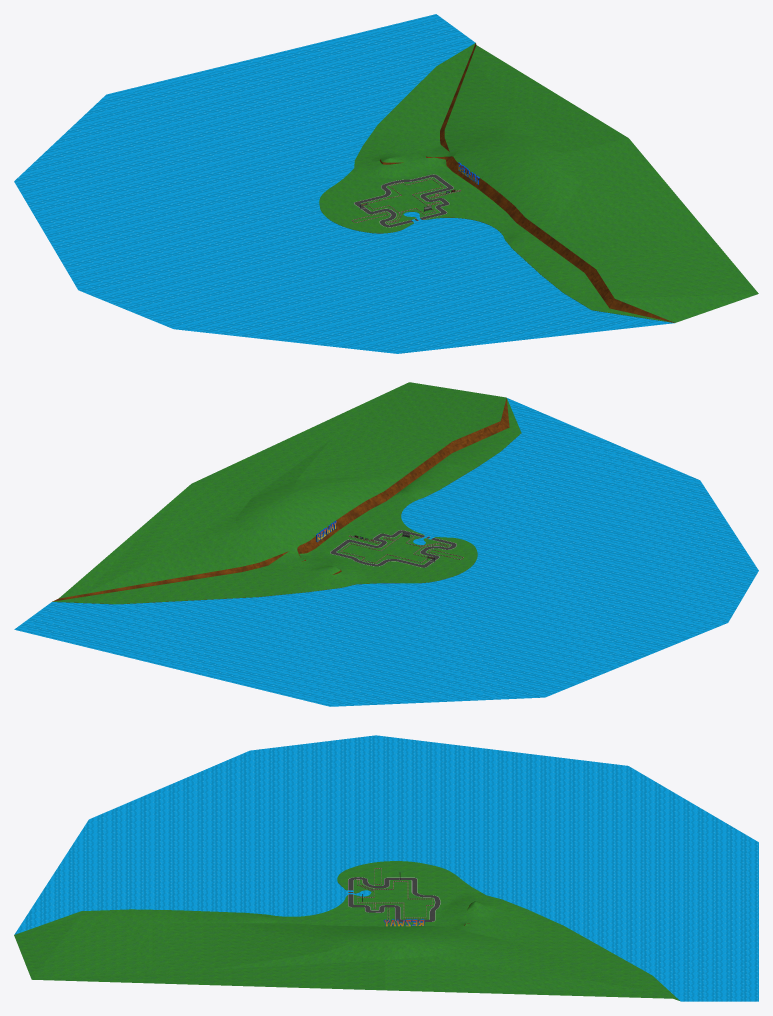
3 views of the same model, one above another, from view 1: azimuth 30°, elevation 25°; view 2: azimuth 150°, elevation 25°; view 3: azimuth 270°, elevation 25° (orthographic). The views are drawn at different scales.
Visible parts, largest first — view 1: RezWayRemake07_Main-UT_wata, RezWayRemake07_Main-grass, RezWayRemake07_Main-CliffnotesBlur, RezWayRemake07_Main-ToonAsphalt; view 2: RezWayRemake07_Main-UT_wata, RezWayRemake07_Main-grass, RezWayRemake07_Main-CliffnotesBlur, RezWayRemake07_Main-ToonAsphalt; view 3: RezWayRemake07_Main-UT_wata, RezWayRemake07_Main-grass, RezWayRemake07_Main-ToonAsphalt, RezWayRemake07_Main-MarioRoadBorderWall.
Boxes of the visible parts, x1,y1,x2,y2 form: RezWayRemake07_Main-UT_wata: (14,14,674,353); RezWayRemake07_Main-grass: (319,43,758,322); RezWayRemake07_Main-CliffnotesBlur: (380,43,674,322); RezWayRemake07_Main-ToonAsphalt: (354,174,453,227); RezWayRemake07_Main-UT_wata: (14,398,758,706); RezWayRemake07_Main-grass: (53,382,521,604); RezWayRemake07_Main-CliffnotesBlur: (52,398,509,601); RezWayRemake07_Main-ToonAsphalt: (330,530,456,567); RezWayRemake07_Main-UT_wata: (14,735,758,1001); RezWayRemake07_Main-grass: (14,861,679,1000); RezWayRemake07_Main-ToonAsphalt: (348,877,440,921); RezWayRemake07_Main-MarioRoadBorderWall: (357,868,432,922).
Size of the model in its own units: 358226 by 11100 by 420674.
Materials: 19 (19 with a texture image).
